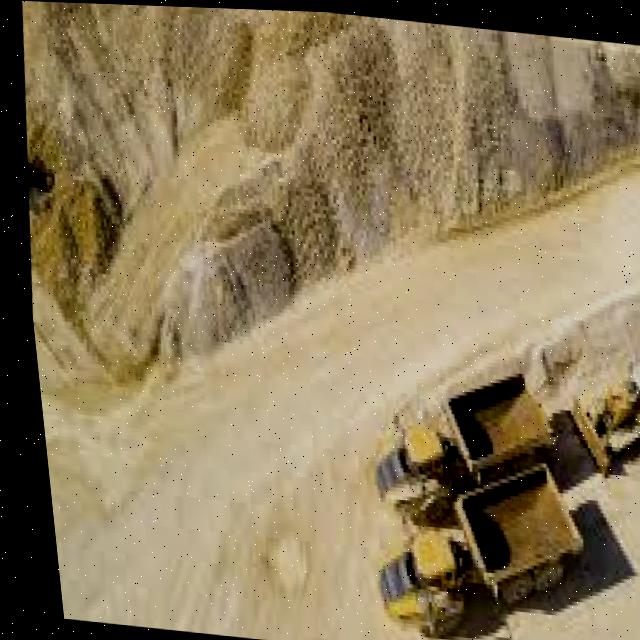truck: (345, 441, 586, 640), (348, 351, 560, 535)
